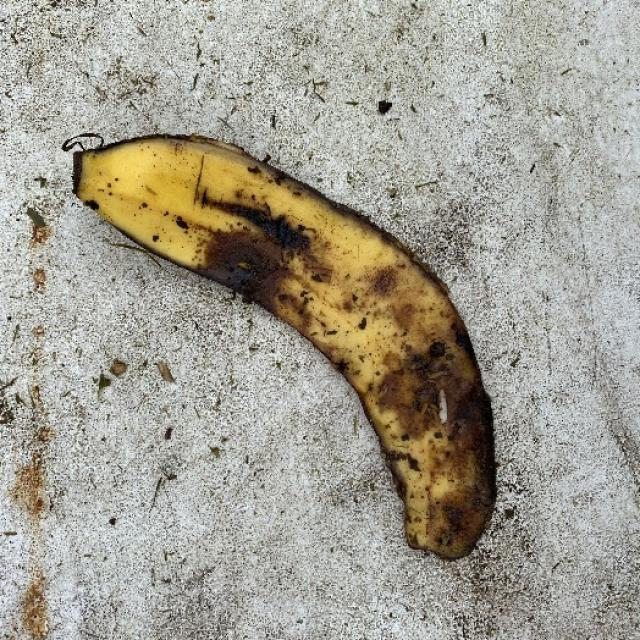organik: (61, 123, 504, 566)
